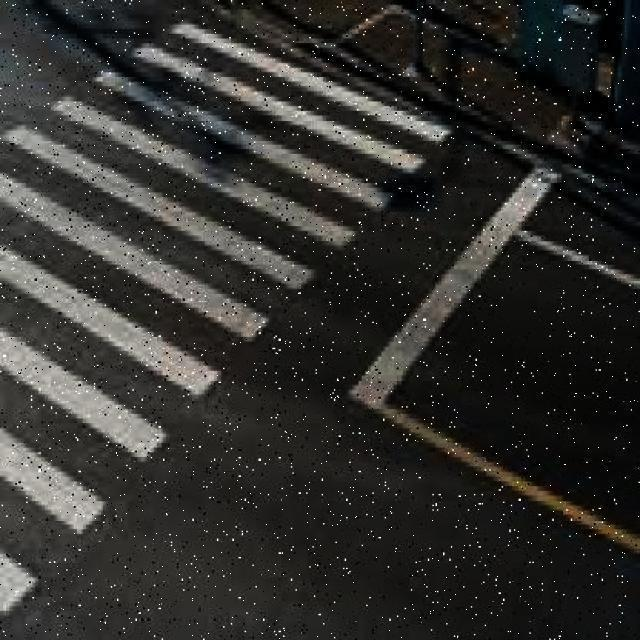crosswalk: (0, 17, 454, 616)
